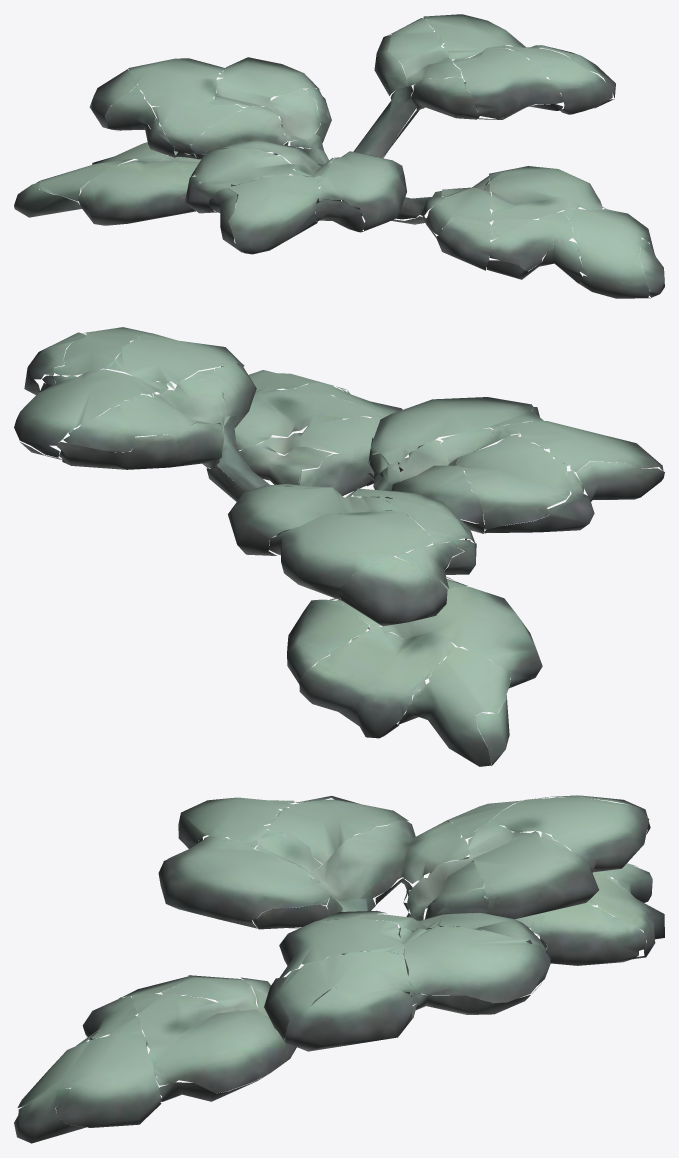
Rendered from green09.glb.
3 views of the same model, one above another, from view 1: azimuth 30°, elevation 25°; view 2: azimuth 150°, elevation 25°; view 3: azimuth 270°, elevation 25° (orthographic). The views are drawn at different scales.
Parts seen in each view (by area): view 1: tripo_node_23ccd4ee-1f1a-465d-8649-0bf26cf43187; view 2: tripo_node_23ccd4ee-1f1a-465d-8649-0bf26cf43187; view 3: tripo_node_23ccd4ee-1f1a-465d-8649-0bf26cf43187.
Part boxes in pixels (x1,y1,x2,y2): tripo_node_23ccd4ee-1f1a-465d-8649-0bf26cf43187: (14,14,664,298); tripo_node_23ccd4ee-1f1a-465d-8649-0bf26cf43187: (14,327,664,766); tripo_node_23ccd4ee-1f1a-465d-8649-0bf26cf43187: (14,795,664,1143).
Bounding box in the file's own units: 1 × 0.3037 × 0.939.
Materials: 1 (1 with a texture image).
